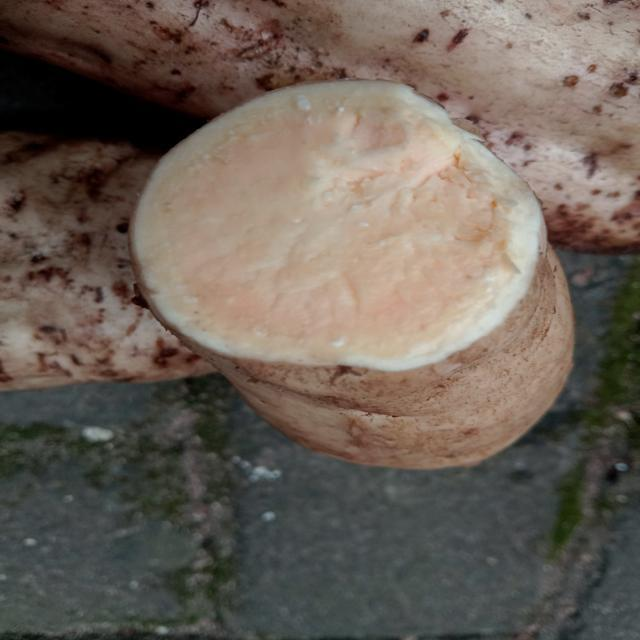Healthy Sweet Potato: (132, 80, 543, 371)
